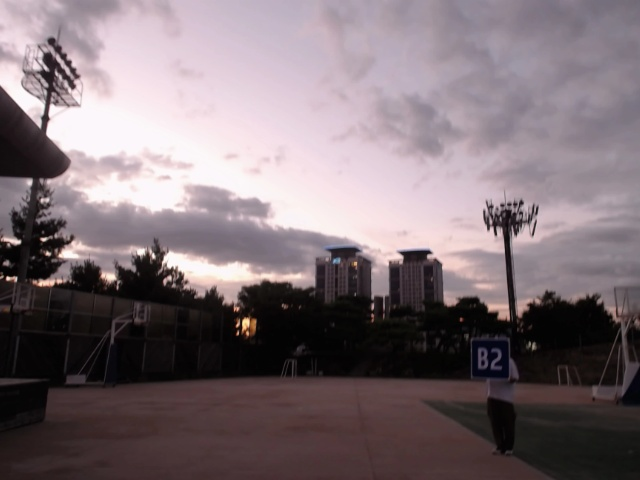delivery_b2: (467, 339, 508, 379)
